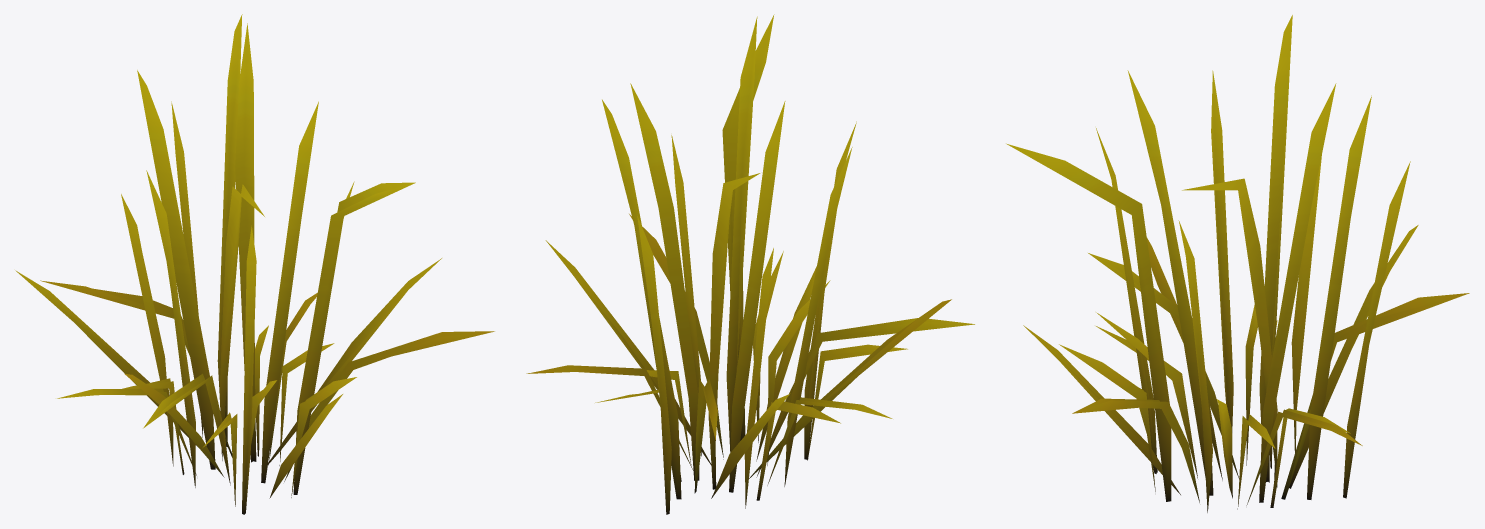
File: Grass_Wispy_Tall.glb
3 renders of one model, left to right at view 1: azimuth 30°, elevation 25°; view 2: azimuth 150°, elevation 25°; view 3: azimuth 270°, elevation 25°, orthographic. The views are drawn at different scales.
Parts seen in each view (by area): view 1: Grass_Wispy_Tall; view 2: Grass_Wispy_Tall; view 3: Grass_Wispy_Tall.
Boxes of the visible parts, x1,y1,x2,y2 form: Grass_Wispy_Tall: (15, 14, 494, 514); Grass_Wispy_Tall: (526, 14, 974, 514); Grass_Wispy_Tall: (1006, 15, 1469, 512).
Size of the model in its own units: 1.54 by 1.66 by 1.59.
Materials: 1 (1 with a texture image).
